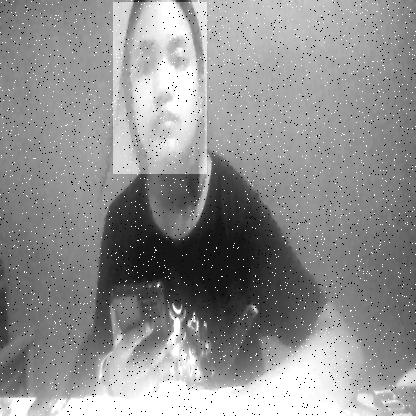Normal: (113, 2, 207, 174)
